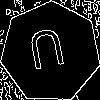U: (25, 27, 69, 79)
